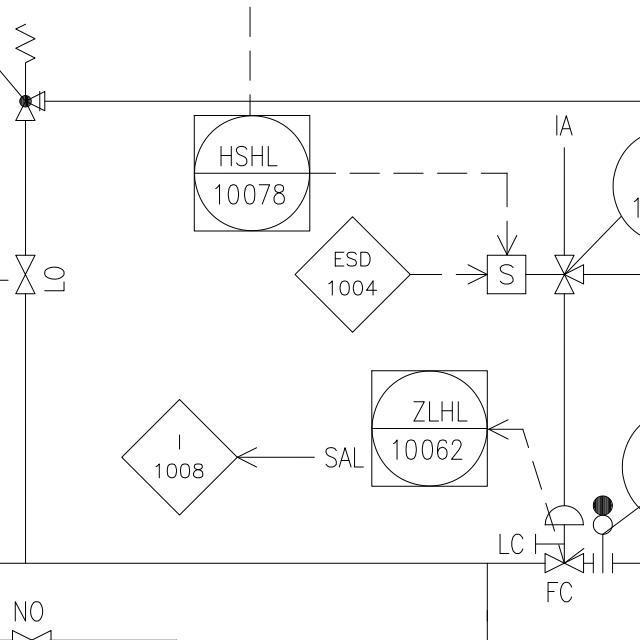3W: (551, 242, 587, 300)
GV: (11, 249, 39, 300)
RPV: (10, 18, 52, 129), (540, 497, 587, 580)
SV: (483, 249, 574, 300)
